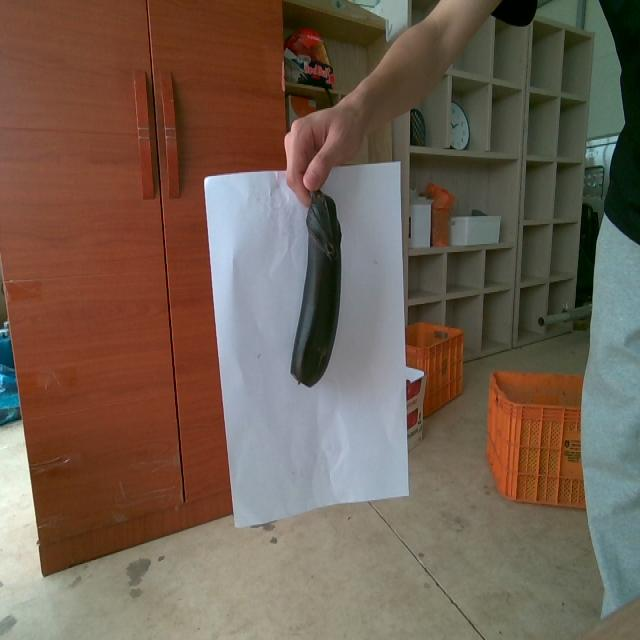Egg plant: (291, 191, 340, 385)
